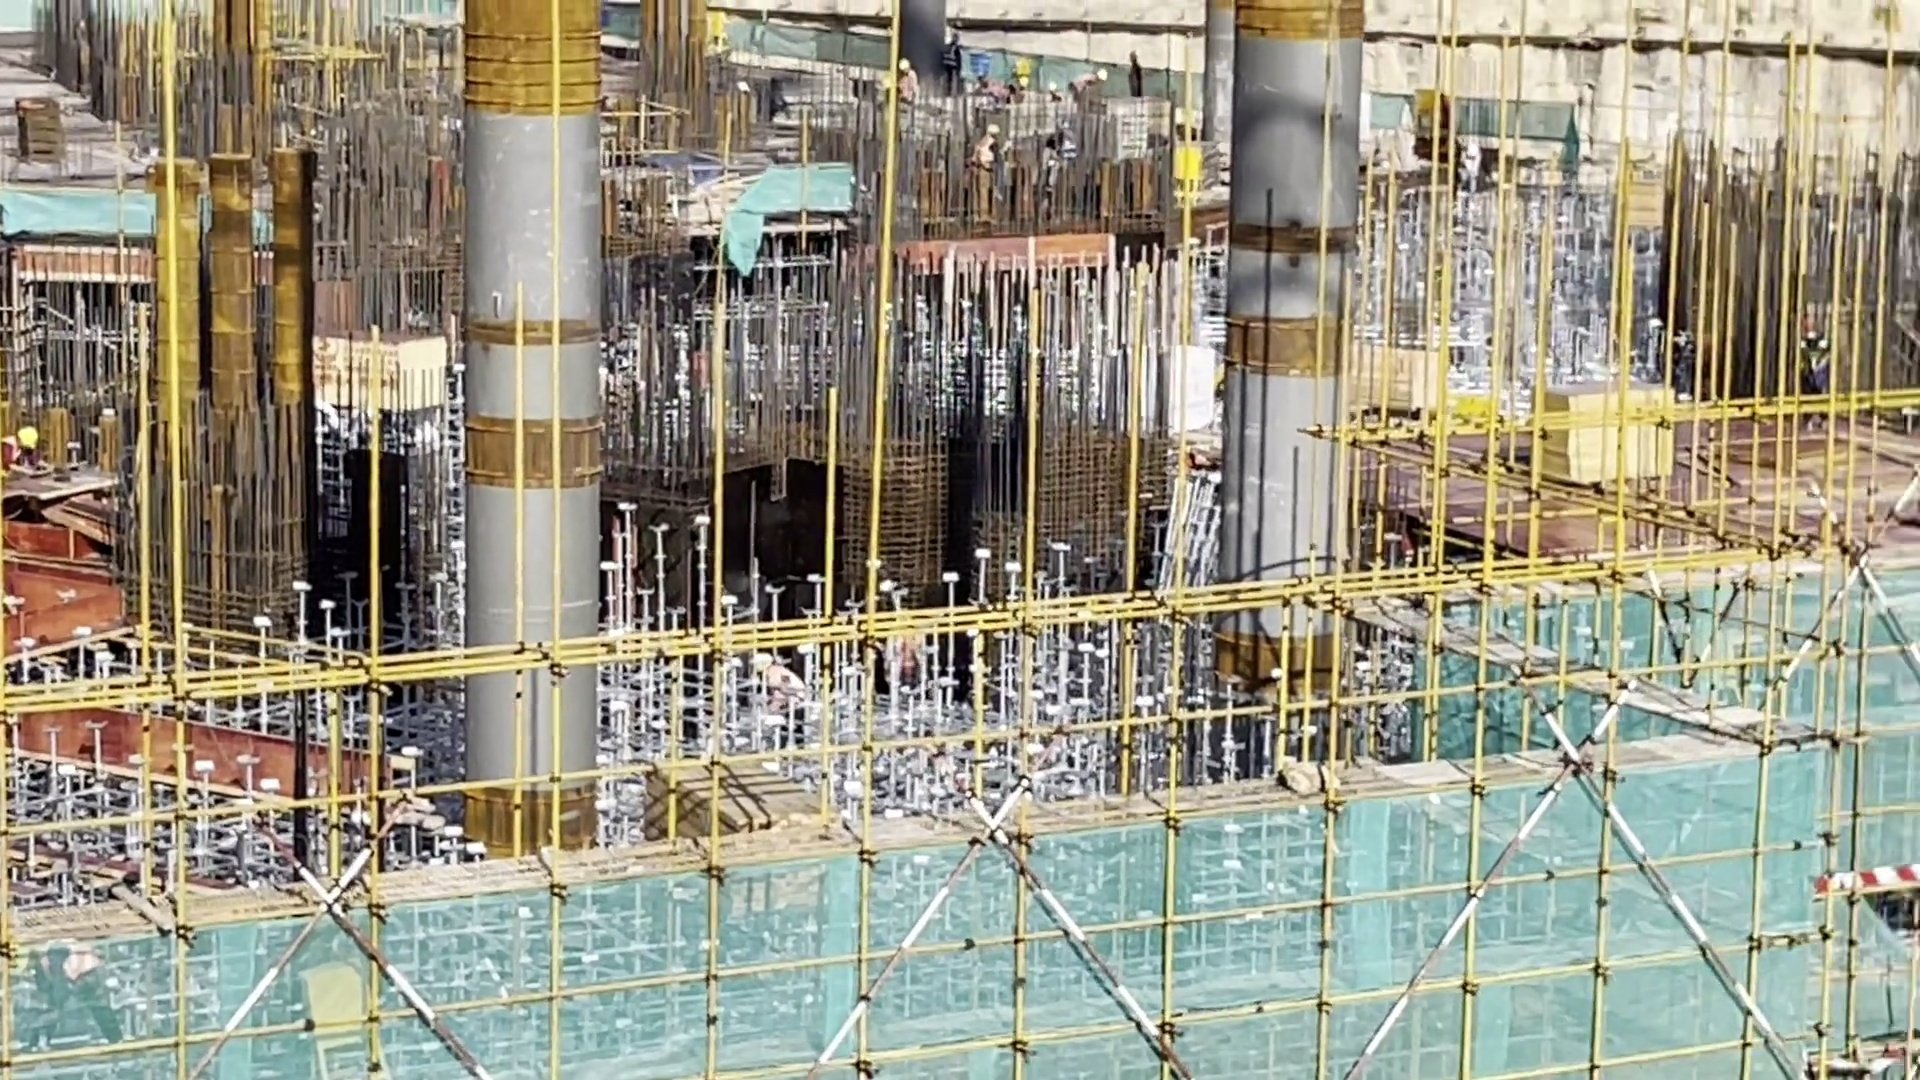board: (651, 767, 844, 931), (1533, 372, 1666, 514), (303, 316, 461, 421)
cutter: (38, 447, 106, 547)
helmet: (19, 421, 41, 447), (989, 125, 1014, 146), (747, 652, 774, 670), (903, 52, 920, 74), (1017, 73, 1032, 89), (1127, 45, 1141, 63), (1052, 124, 1071, 137), (1048, 77, 1060, 93), (1800, 325, 1818, 335), (953, 34, 967, 47), (1649, 318, 1664, 328), (1095, 68, 1107, 82), (978, 72, 991, 84), (1442, 84, 1452, 98), (1468, 148, 1478, 157)
person: (749, 631, 826, 730), (849, 605, 907, 715), (1796, 311, 1842, 426), (887, 586, 939, 676), (1653, 312, 1693, 407), (1, 418, 52, 468), (977, 116, 1001, 208), (1124, 51, 1157, 118), (1062, 123, 1082, 224), (1435, 85, 1458, 160), (1077, 64, 1113, 110), (942, 24, 960, 106), (898, 54, 911, 131), (1042, 81, 1067, 118), (1465, 141, 1483, 188), (1011, 60, 1023, 113), (972, 74, 991, 101)
vest: (1803, 334, 1844, 397), (1668, 330, 1695, 388), (776, 674, 819, 708), (901, 632, 928, 674), (4, 442, 51, 461), (868, 648, 888, 693), (972, 146, 1004, 172), (897, 73, 916, 104), (1465, 153, 1482, 183), (1, 439, 23, 462), (1062, 134, 1075, 170), (1064, 78, 1093, 90), (1443, 99, 1454, 127), (945, 51, 958, 75), (1136, 66, 1145, 92), (1048, 91, 1066, 104), (1008, 86, 1021, 95)
wood: (1353, 331, 1448, 417)
